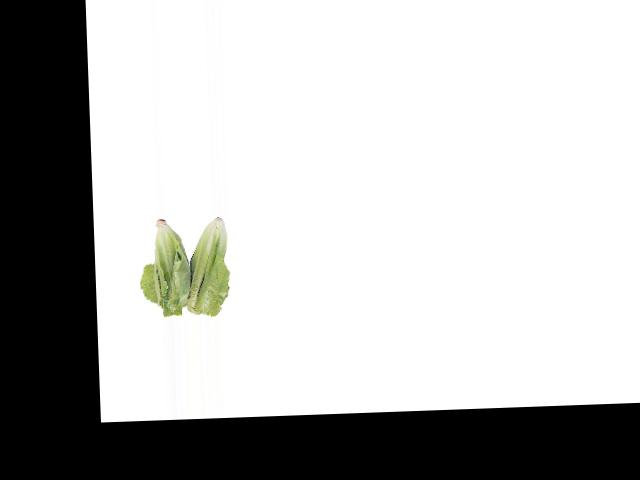lettuce: (147, 215, 236, 318)
